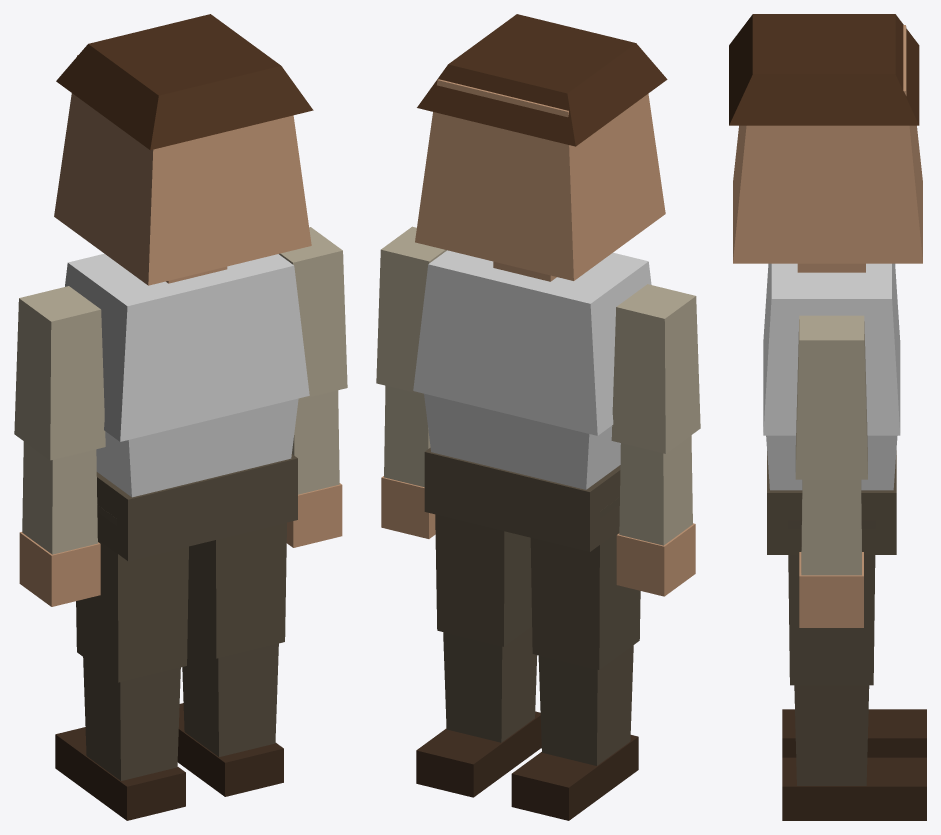
The model's file is villager-low.glb.
3 views of the same model, side by side, from view 1: azimuth 30°, elevation 25°; view 2: azimuth 150°, elevation 25°; view 3: azimuth 270°, elevation 25° (orthographic). The views are drawn at different scales.
Parts seen in each view (by area): view 1: villager; view 2: villager; view 3: villager.
Boxes of the visible parts, x1,y1,x2,y2 form: villager: (14, 14, 347, 820); villager: (376, 14, 700, 820); villager: (729, 14, 926, 820).
Bounding box in the file's own units: 0.455 × 1.07 × 0.26.
